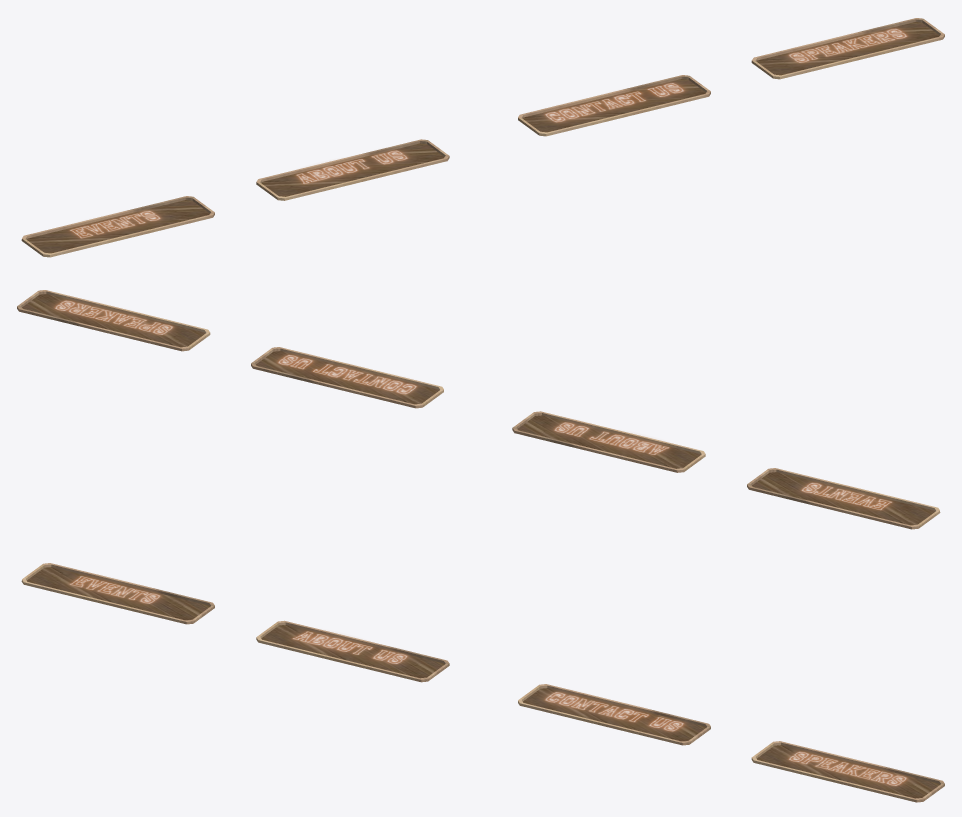
File: BoardWebsite.glb
3 views of the same model, one above another, from view 1: azimuth 30°, elevation 25°; view 2: azimuth 150°, elevation 25°; view 3: azimuth 330°, elevation 25° (orthographic).
Visible parts, largest first — view 1: EventsBack, AboutUsBack, SpeakerBack, ContactUsBack, ContactUsFront, SpeakerFront, AboutUsFront, EventsFront; view 2: EventsBack, AboutUsBack, SpeakerBack, ContactUsBack, ContactUsFront, SpeakerFront, AboutUsFront, EventsFront; view 3: EventsBack, AboutUsBack, SpeakerBack, ContactUsBack, ContactUsFront, SpeakerFront, AboutUsFront, EventsFront.
Boxes of the visible parts, x1,y1,x2,y2 form: EventsBack: (21,196,214,257); AboutUsBack: (256,139,449,200); SpeakerBack: (751,18,944,79); ContactUsBack: (518,75,710,136); ContactUsFront: (541,81,688,123); SpeakerFront: (785,27,911,63); AboutUsFront: (293,149,411,184); EventsFront: (67,209,163,239); EventsBack: (747,468,940,529); AboutUsBack: (512,411,705,472); SpeakerBack: (17,290,210,351); ContactUsBack: (251,347,443,408); ContactUsFront: (273,353,420,395); SpeakerFront: (51,299,176,335); AboutUsFront: (550,421,671,456); EventsFront: (798,481,894,511); EventsBack: (21,563,214,624); AboutUsBack: (256,620,449,682); SpeakerBack: (751,741,944,802); ContactUsBack: (518,684,710,745); ContactUsFront: (541,690,688,732); SpeakerFront: (785,750,910,787); AboutUsFront: (290,630,411,665); EventsFront: (67,575,163,604).
Bounding box in the file's own units: 22.57 × 0.1151 × 1.21.
2 materials, 2 textured.
